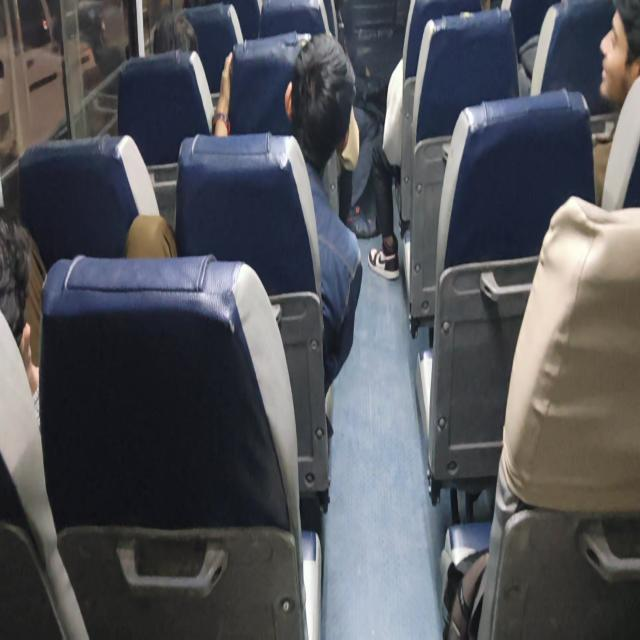person: (211, 32, 363, 394), (367, 0, 482, 281), (592, 0, 640, 208), (598, 0, 639, 108)
